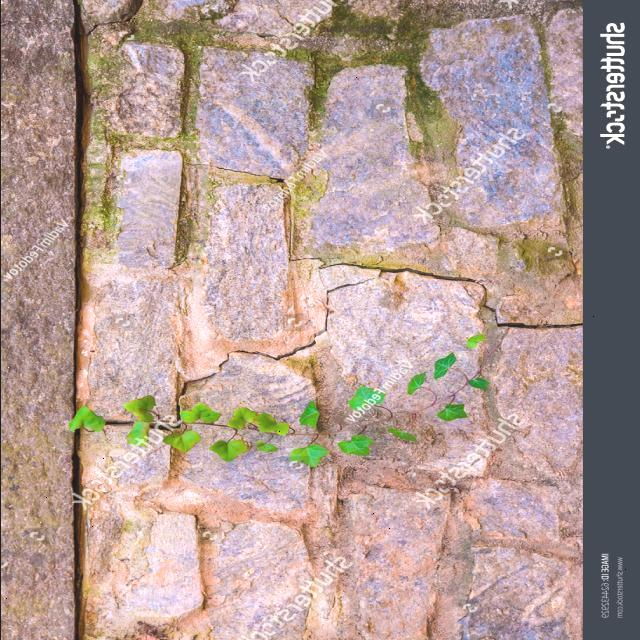crack: (76, 255, 582, 436)
vegetation: (82, 351, 504, 489)
